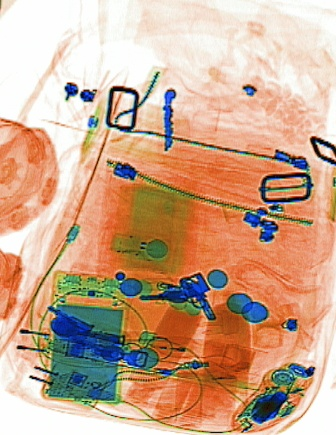lighter: (138, 329, 227, 357)
